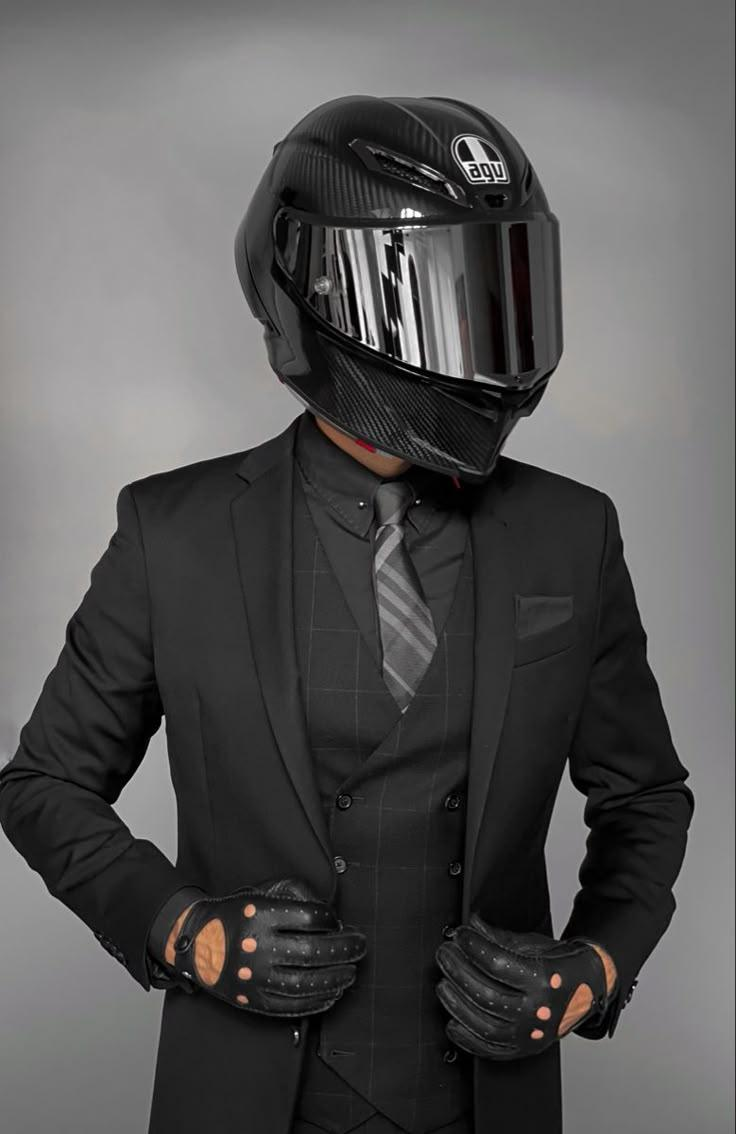Helmet: (236, 94, 562, 479)
